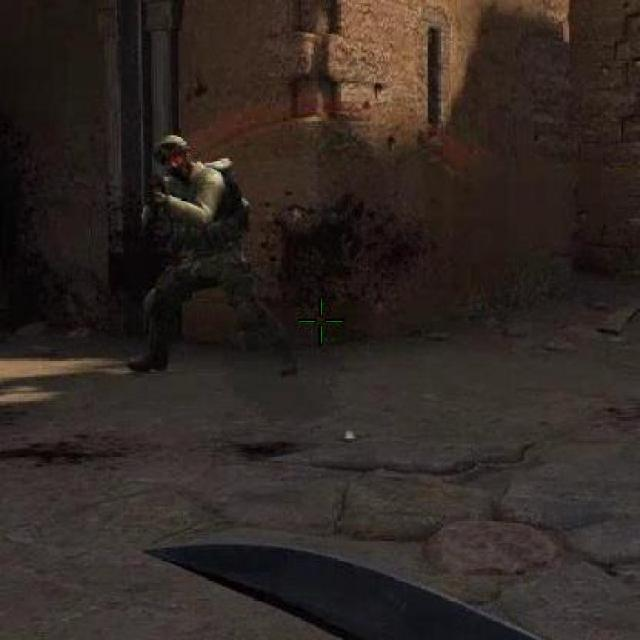CT: (128, 134, 304, 380)
CT_HEAD: (149, 135, 200, 177)
